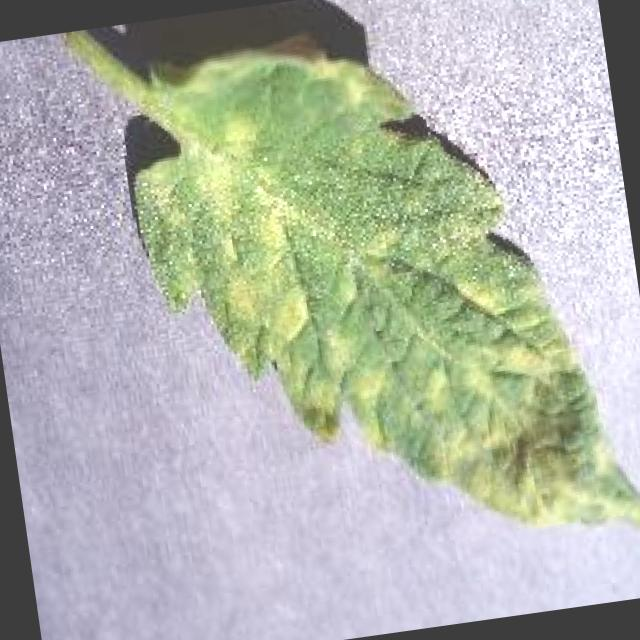leaf mold: (60, 26, 640, 527)
